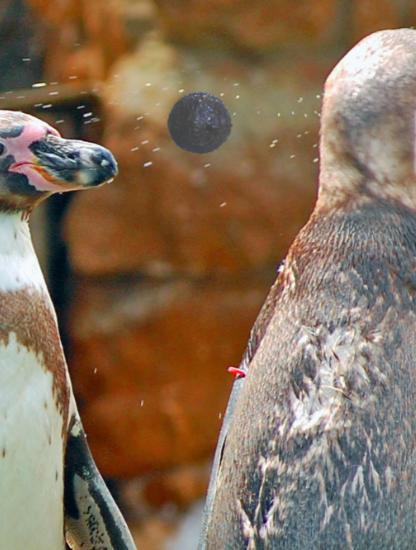Avocado: (163, 88, 233, 158)
